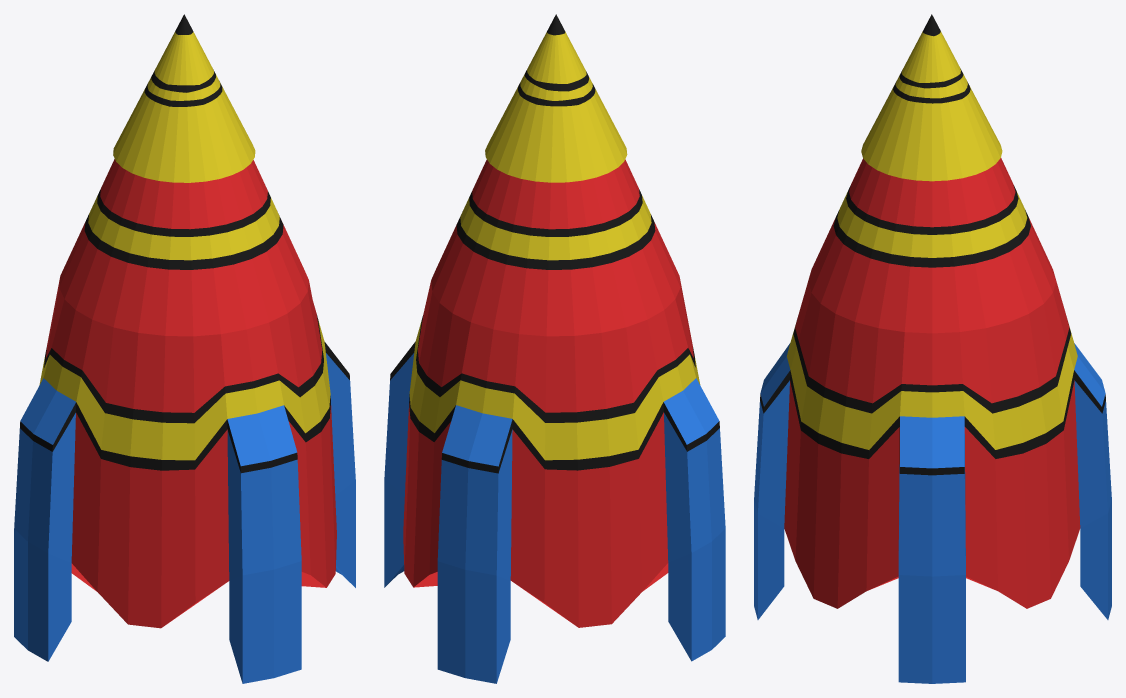
The model's file is rocketship.gltf.
3 views of the same model, side by side, from view 1: azimuth 30°, elevation 25°; view 2: azimuth 150°, elevation 25°; view 3: azimuth 270°, elevation 25° (orthographic).
Parts seen in each view (by area): view 1: Cylinder; view 2: Cylinder; view 3: Cylinder.
Part boxes in pixels (x1,y1,x2,y2): Cylinder: [14, 14, 355, 683]; Cylinder: [384, 14, 725, 683]; Cylinder: [754, 14, 1111, 683].
Bounding box in the file's own units: 1.5 × 2.74 × 1.49.
